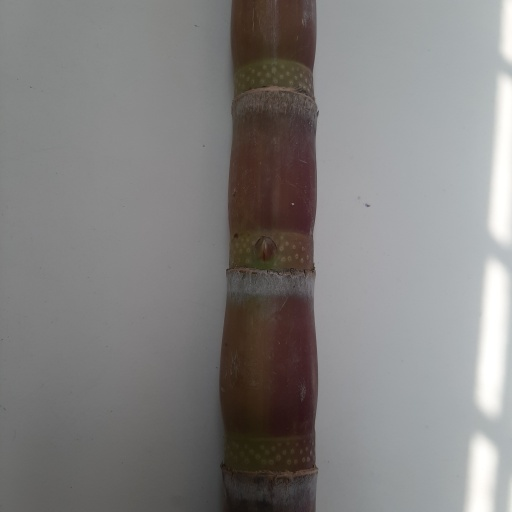Bud: (253, 235, 281, 267)
